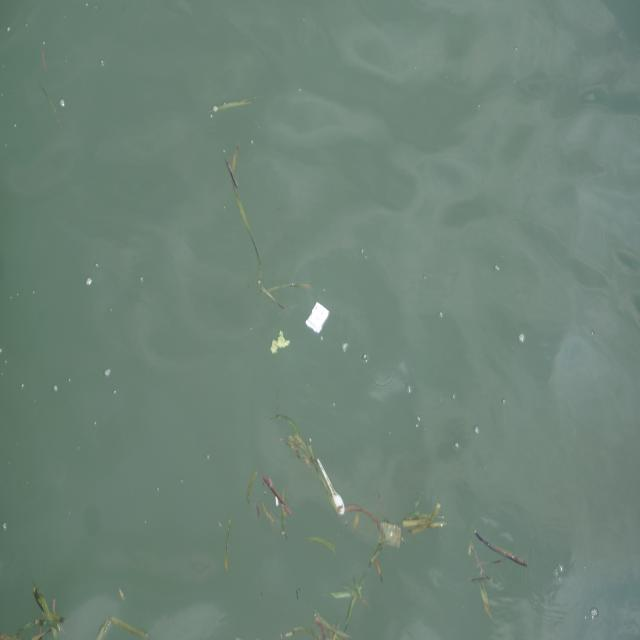Bungkus Makanan: (306, 300, 333, 339)
Kantong Plastik: (378, 517, 405, 554)
